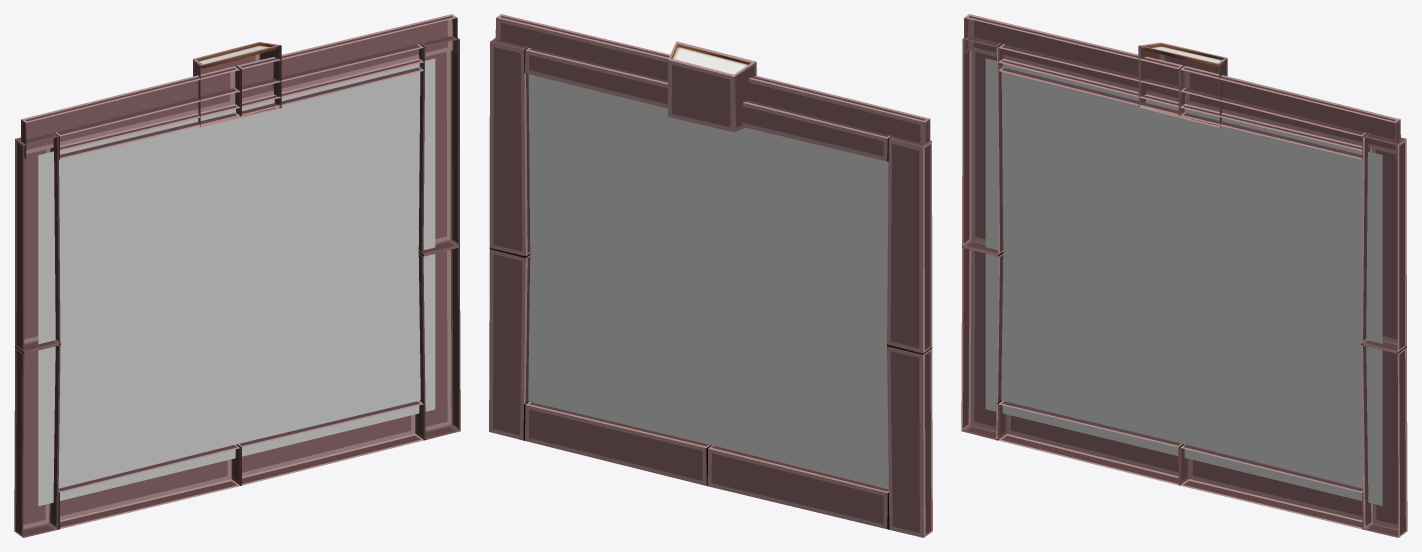
Rendered from TropicalStageCoveSmall.fbx.
3 views of the same model, side by side, from view 1: azimuth 30°, elevation 25°; view 2: azimuth 150°, elevation 25°; view 3: azimuth 330°, elevation 25° (orthographic).
Visible parts, largest first — view 1: GrassFloor, StageWood, WoodBox; view 2: GrassFloor, StageWood, WoodBox; view 3: GrassFloor, StageWood, WoodBox.
Part boxes in pixels (x1=…): GrassFloor: x1=38, y1=58, x2=435, y2=506; StageWood: x1=14, y1=14, x2=460, y2=537; WoodBox: x1=193, y1=42, x2=281, y2=127; GrassFloor: x1=528, y1=74, x2=888, y2=489; StageWood: x1=489, y1=14, x2=932, y2=537; WoodBox: x1=667, y1=41, x2=756, y2=132; GrassFloor: x1=985, y1=58, x2=1382, y2=505; StageWood: x1=961, y1=14, x2=1407, y2=537; WoodBox: x1=1138, y1=42, x2=1227, y2=127.
Size of the model in its own units: 324 by 305 by 19.46.
